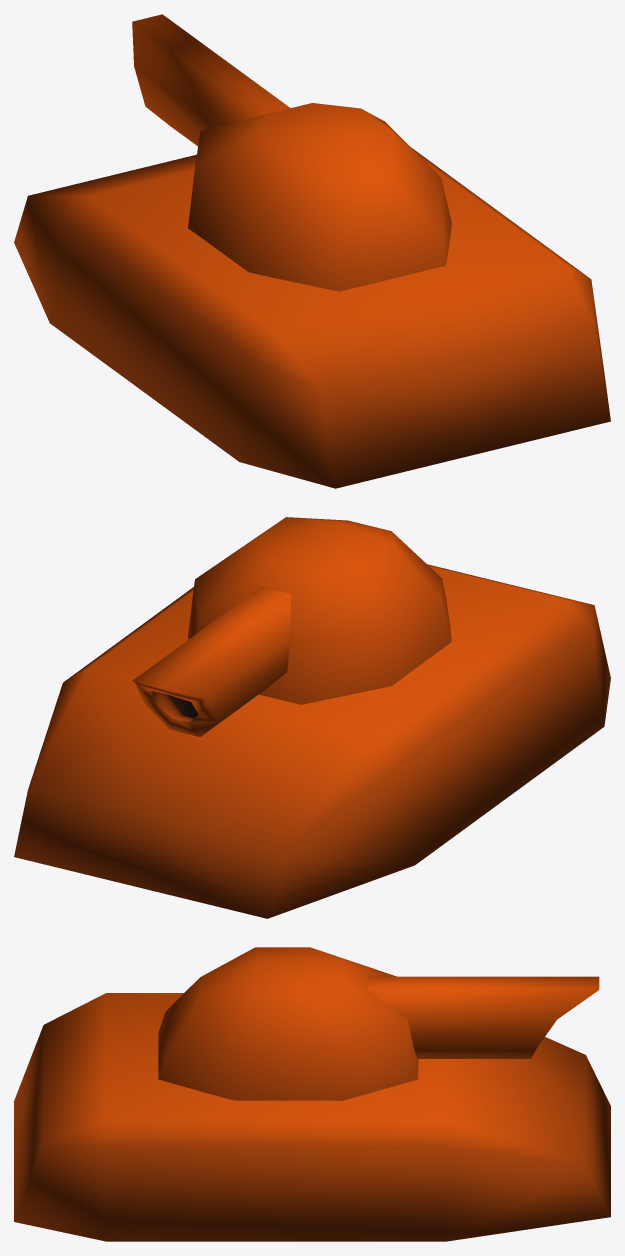
File: tank01.fbx
3 views of the same model, one above another, from view 1: azimuth 30°, elevation 25°; view 2: azimuth 150°, elevation 25°; view 3: azimuth 270°, elevation 25° (orthographic). The views are drawn at different scales.
Parts seen in each view (by area): view 1: tankbody, tanktop, maingun; view 2: tankbody, tanktop, maingun; view 3: tankbody, tanktop, maingun.
Boxes of the visible parts, box(x1,y1,x2,y2) form: tankbody: box(14, 147, 610, 488); tanktop: box(188, 103, 451, 291); maingun: box(132, 14, 290, 146); tankbody: box(14, 564, 610, 918); tanktop: box(188, 517, 451, 704); maingun: box(132, 587, 291, 737); tankbody: box(14, 993, 610, 1241); tanktop: box(158, 947, 418, 1100); maingun: box(368, 976, 599, 1058).
Bounding box in the file's own units: 0.899 × 0.5226 × 1.42.
